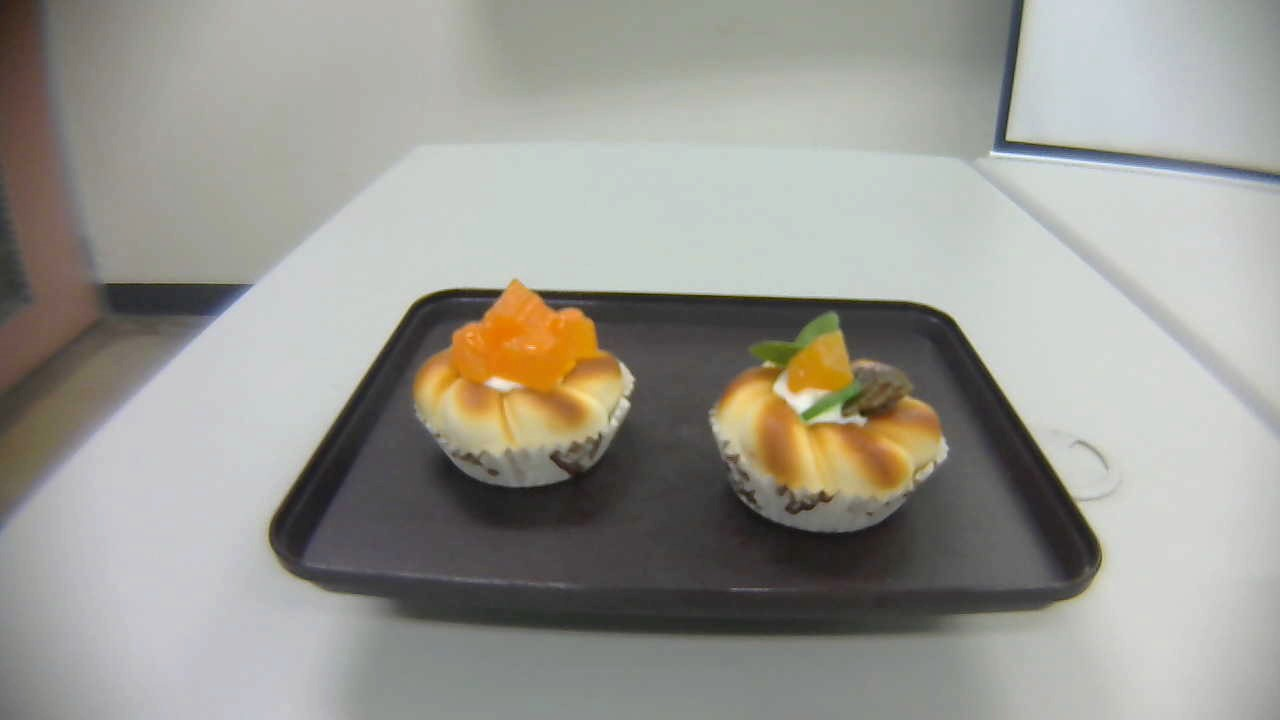fruit tart: (709, 307, 952, 537)
mango tart: (409, 277, 637, 491)
